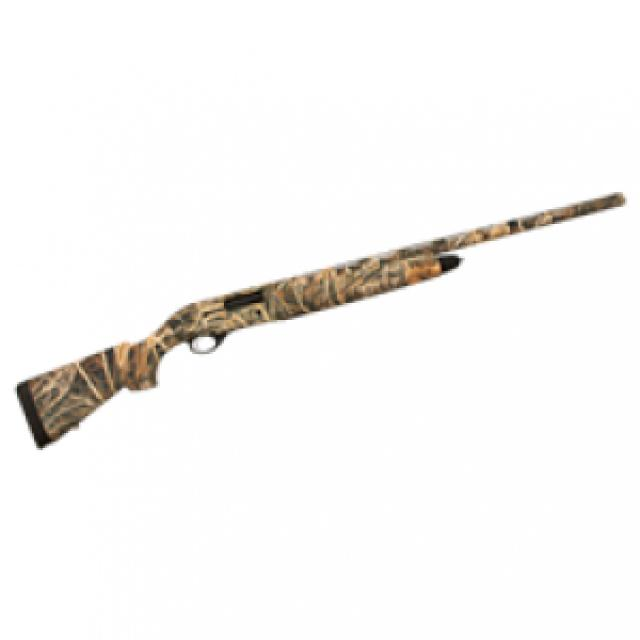rifle: (12, 184, 629, 458)
